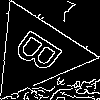B: (11, 27, 73, 82)
